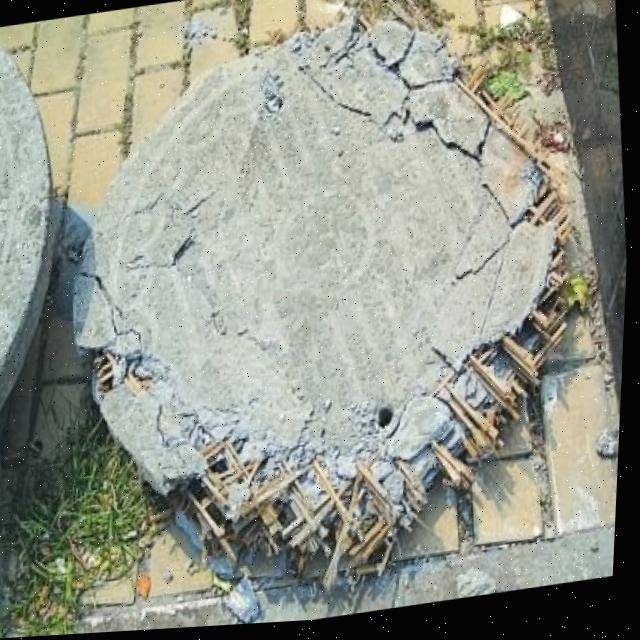manhole: (44, 9, 611, 613)
